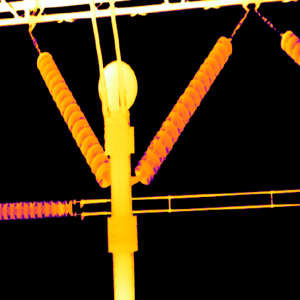insulator: (134, 36, 232, 185), (36, 49, 112, 184), (0, 200, 65, 218), (280, 28, 300, 65)
